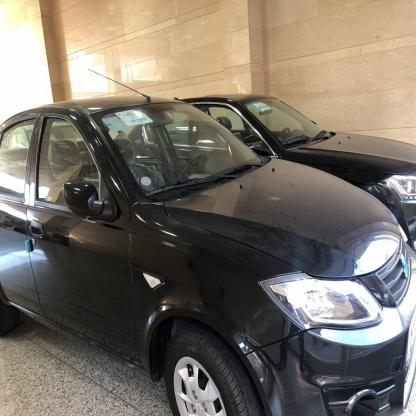Car: (0, 82, 415, 416), (174, 52, 416, 249)
